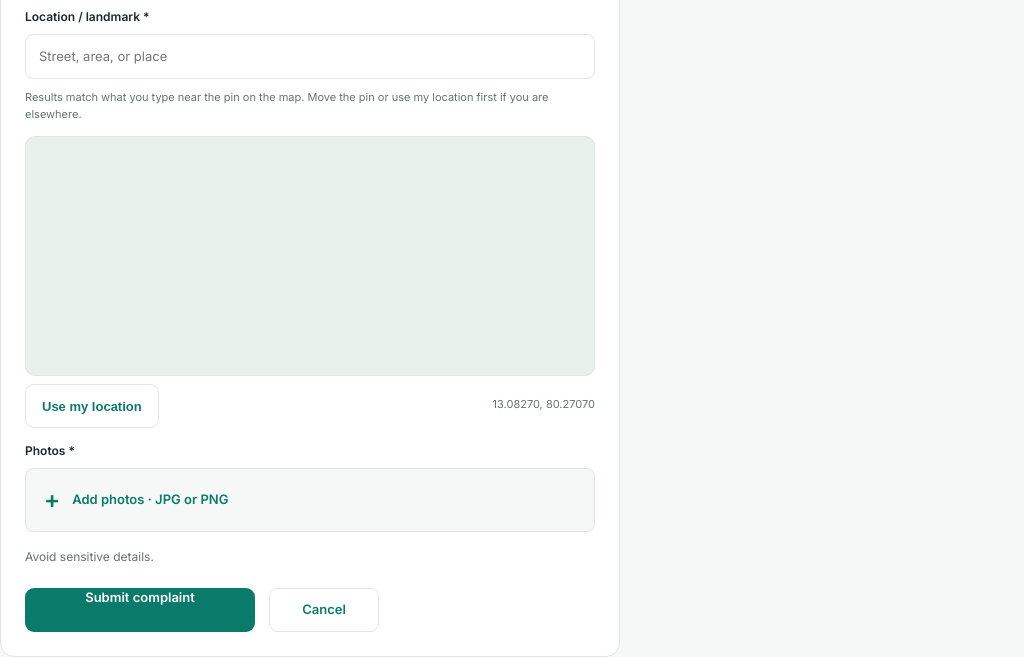
Test: complaint form requires a photo before submit
(page scrolled)
Expected: the text "Photos *" is shown, [25,443,75,458]
Click the button "Submit complaint" at (140, 610), box [25,588,255,632]
(page scrolled)
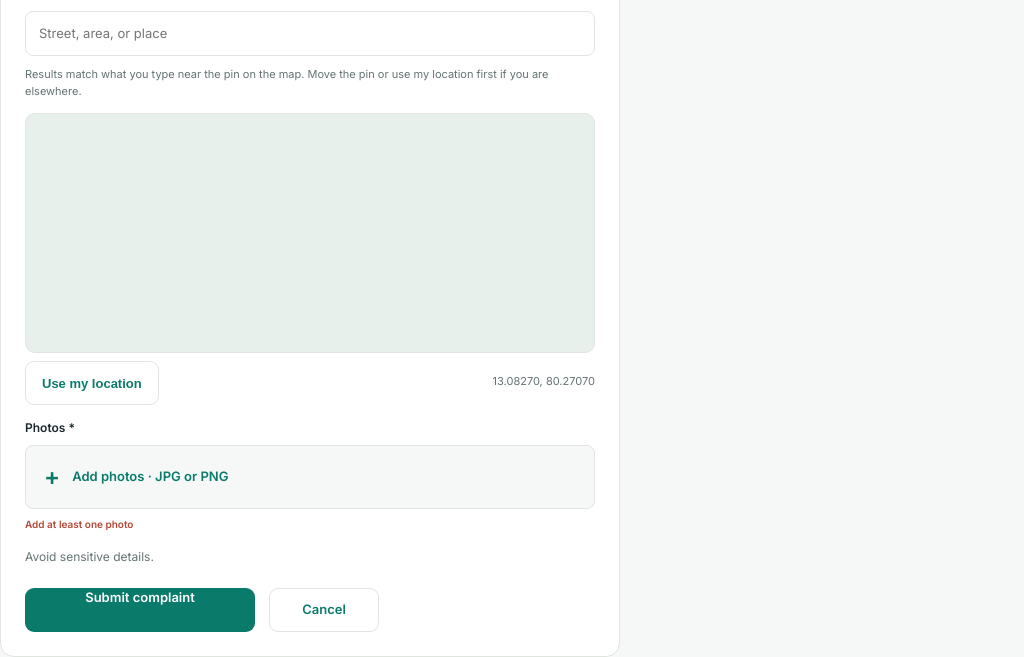
Result: the text "Add at least one photo" is shown at [25,518,134,530]
